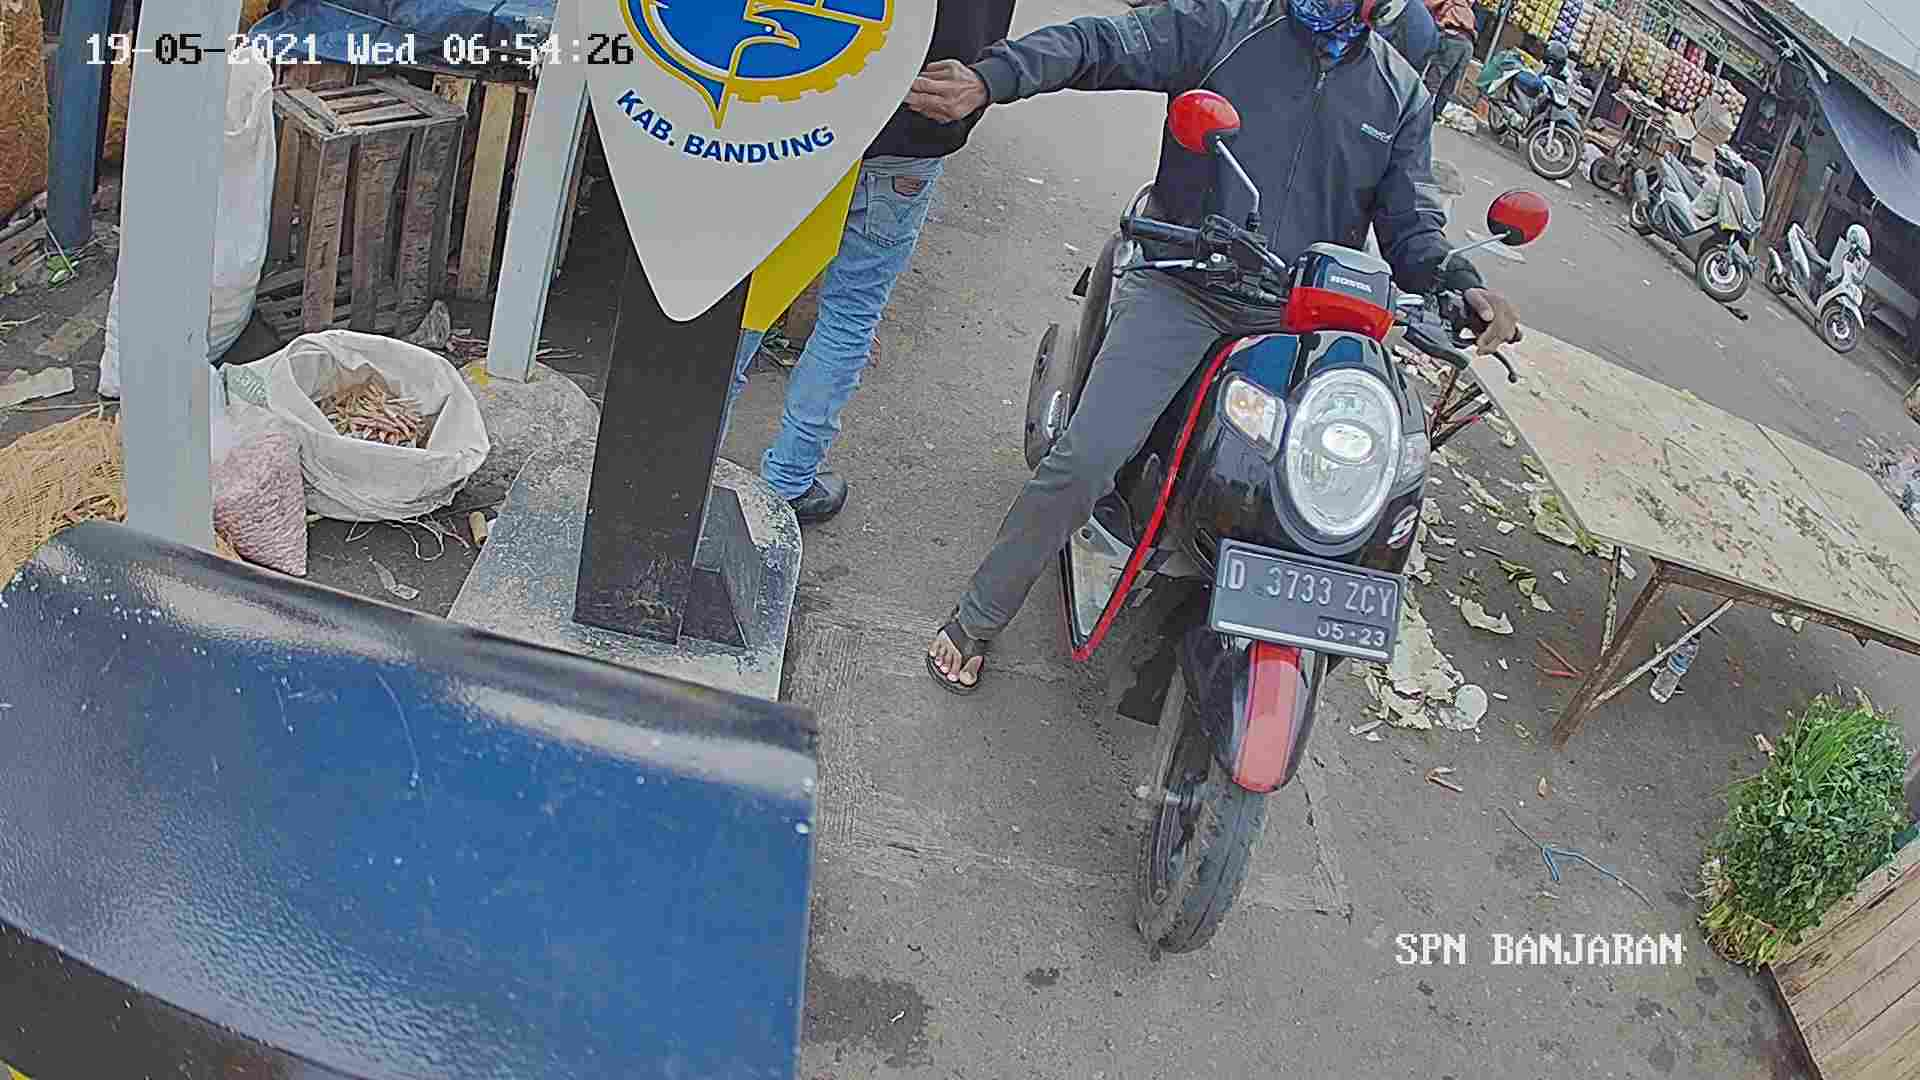motor: (1060, 152, 1443, 972)
